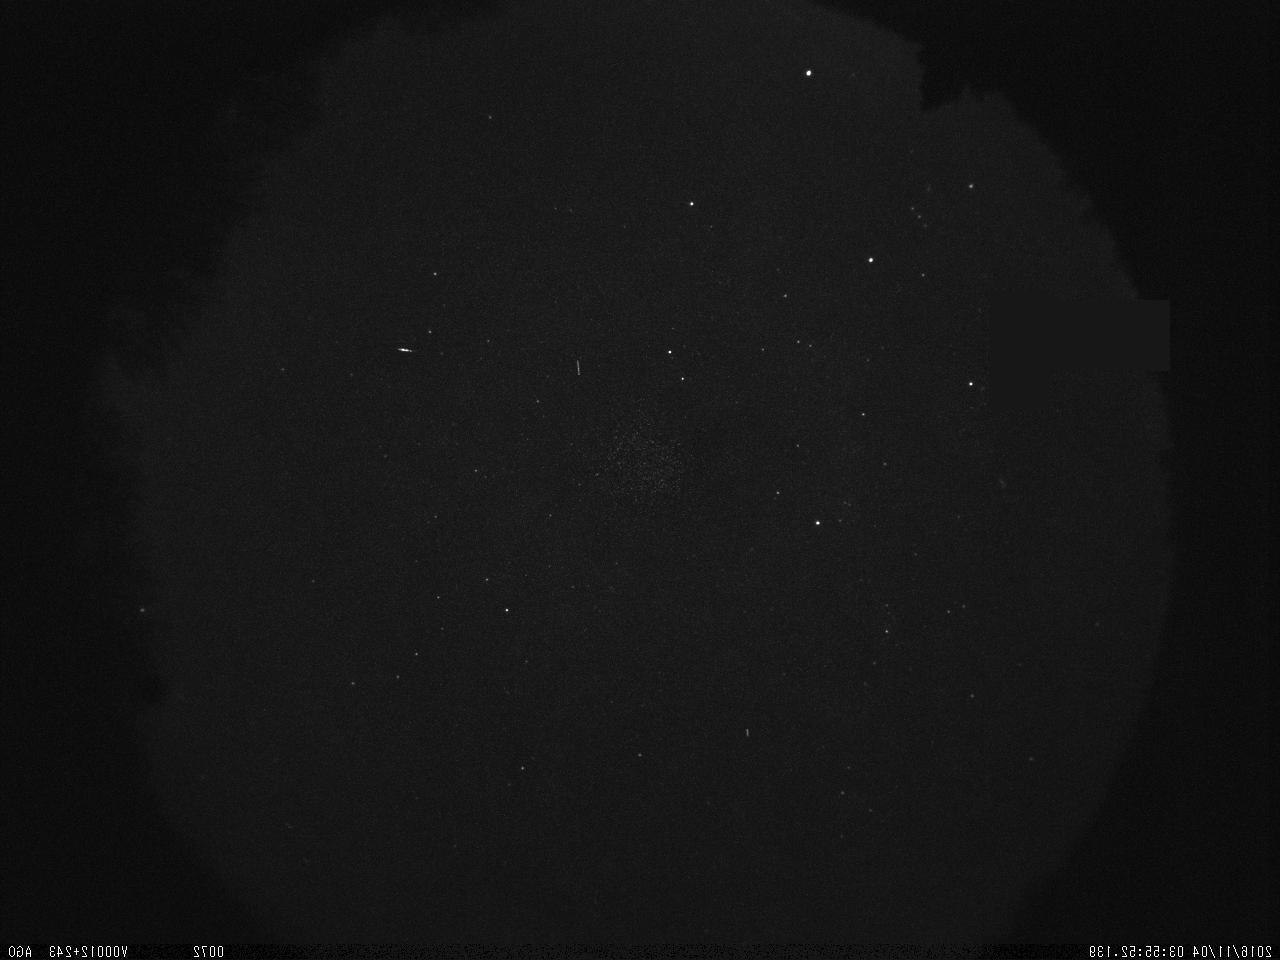meteor: (394, 344, 415, 355)
